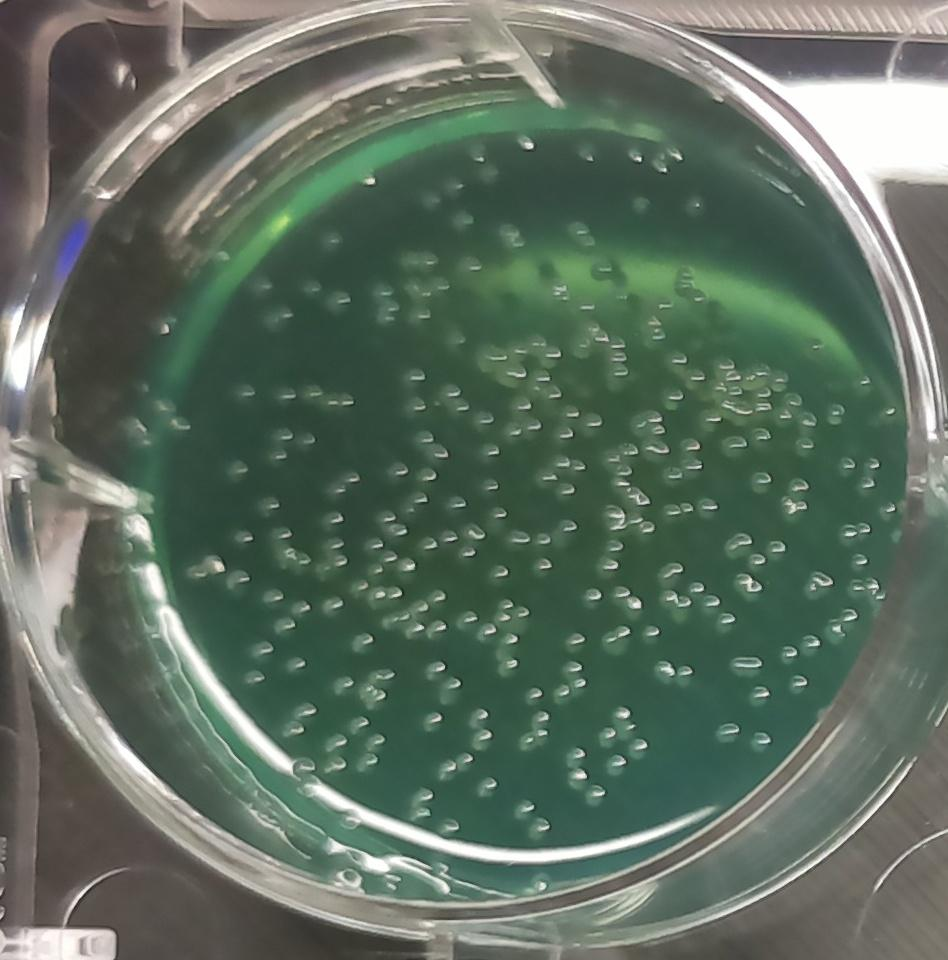paeruginosa: (661, 261, 714, 311), (556, 401, 609, 448), (726, 649, 768, 681), (729, 570, 766, 604), (657, 554, 691, 589), (375, 507, 410, 540), (722, 528, 755, 562), (777, 491, 810, 524), (602, 621, 634, 654), (438, 320, 469, 353), (746, 466, 776, 499), (399, 361, 428, 391), (832, 449, 859, 479), (791, 433, 819, 460), (650, 657, 676, 686), (292, 698, 321, 721), (363, 532, 387, 555), (580, 587, 605, 609), (291, 597, 314, 619)
